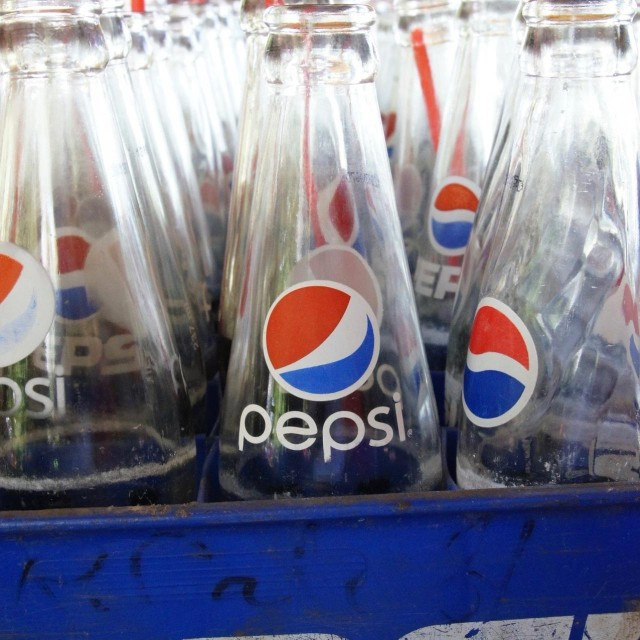pepsi: (255, 274, 382, 401), (462, 300, 539, 428), (430, 171, 488, 254)
